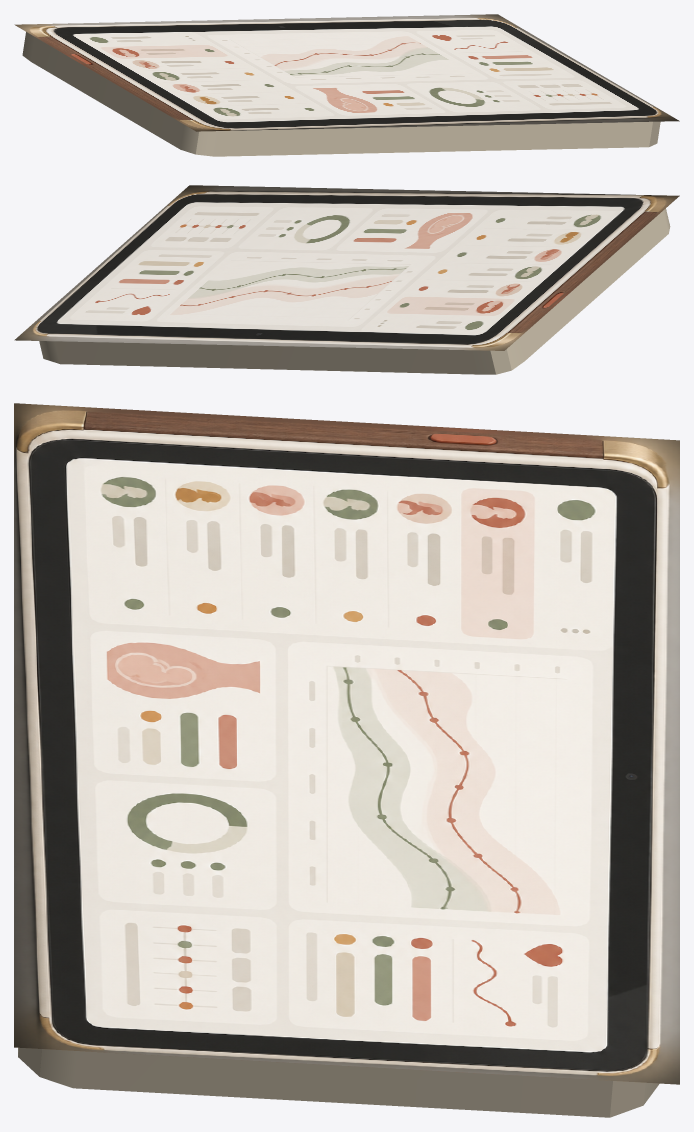
Rendered from vintage-relief-tablet.glb.
The picture shows the model from 3 angles, top to bottom: view 1: azimuth 30°, elevation 25°; view 2: azimuth 150°, elevation 25°; view 3: azimuth 270°, elevation 25°; orthographic projection. The views are drawn at different scales.
Visible parts, largest first — view 1: Maternal care tablet · exact approved vintage artwork, Maternal care tablet · outline-matched solid device body; view 2: Maternal care tablet · exact approved vintage artwork, Maternal care tablet · outline-matched solid device body; view 3: Maternal care tablet · exact approved vintage artwork, Maternal care tablet · outline-matched solid device body.
Part boxes in pixels (x1,y1,x2,y2): Maternal care tablet · exact approved vintage artwork: [14, 14, 679, 131]; Maternal care tablet · outline-matched solid device body: [22, 32, 660, 156]; Maternal care tablet · exact approved vintage artwork: [14, 185, 679, 350]; Maternal care tablet · outline-matched solid device body: [39, 208, 670, 374]; Maternal care tablet · exact approved vintage artwork: [14, 403, 679, 1084]; Maternal care tablet · outline-matched solid device body: [18, 1047, 659, 1117].
Bounding box in the file's own units: 3.66 × 1.08 × 2.3.
2 materials, 1 textured.
